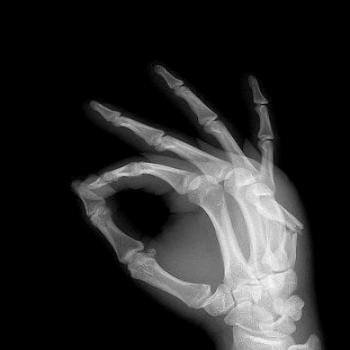Fracture: (284, 218, 310, 241)
